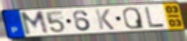5: (44, 10, 68, 34)
6: (72, 10, 92, 32)
K: (93, 9, 116, 31)
L: (144, 7, 167, 28)
M: (19, 10, 51, 37)
Q: (122, 7, 146, 30)
